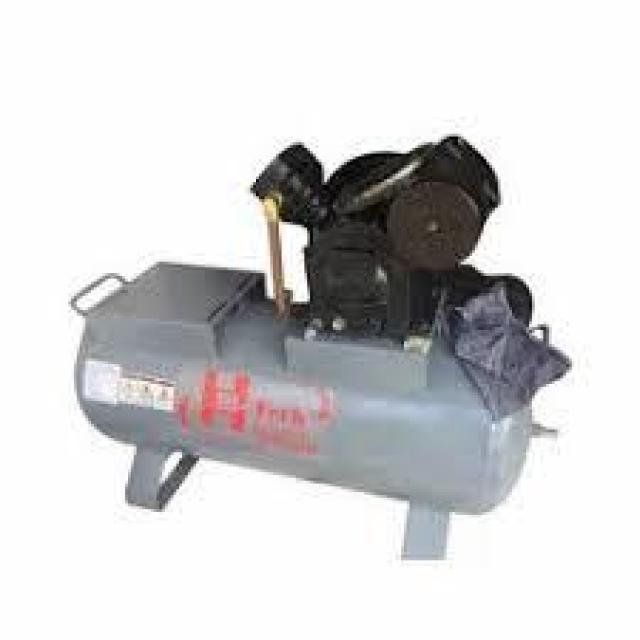compressor: (56, 135, 624, 560)
